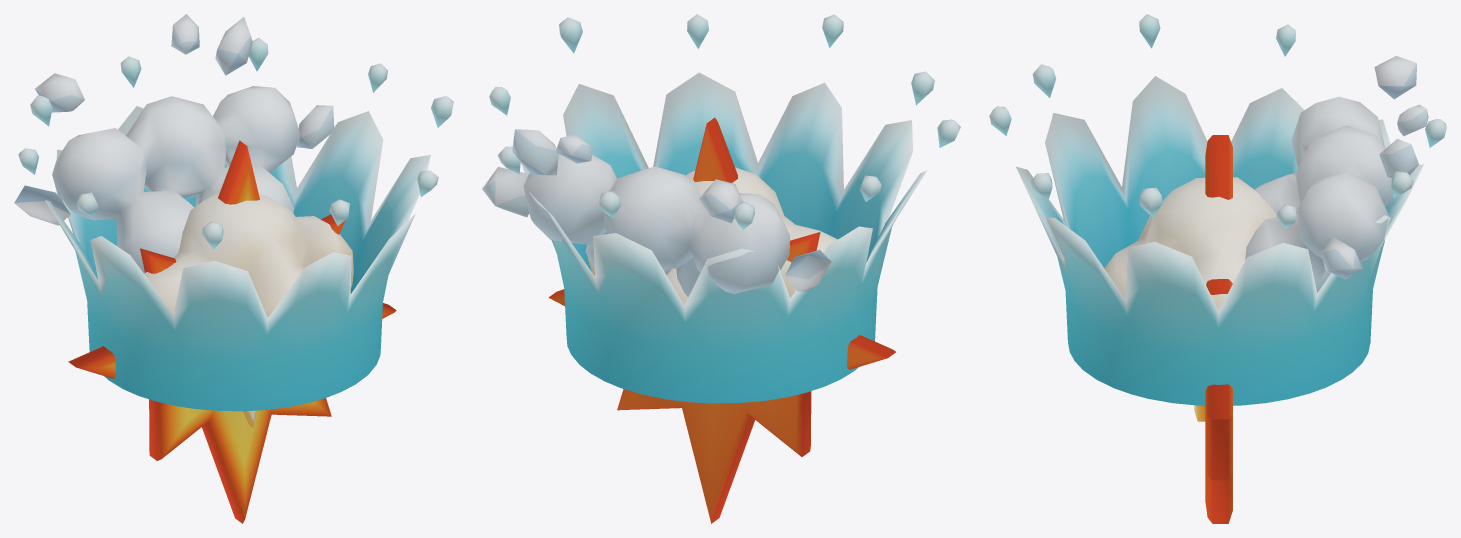
The model's file is fx-kit.glb.
3 renders of one model, left to right at view 1: azimuth 30°, elevation 25°; view 2: azimuth 150°, elevation 25°; view 3: azimuth 270°, elevation 25°, orthographic. The views are drawn at different scales.
Parts seen in each view (by area): view 1: splashcrown fx, snowburst fx, dustpuff fx, impactstar fx; view 2: splashcrown fx, snowburst fx, impactstar fx, dustpuff fx; view 3: splashcrown fx, snowburst fx, dustpuff fx, impactstar fx.
Boxes of the visible parts, box(x1,y1,x2,y2) form: splashcrown fx: box(18, 37, 453, 411); snowburst fx: box(14, 14, 334, 273); dustpuff fx: box(144, 192, 353, 317); impactstar fx: box(68, 140, 396, 523); splashcrown fx: box(489, 14, 960, 403); snowburst fx: box(482, 129, 831, 297); impactstar fx: box(548, 117, 895, 523); dustpuff fx: box(588, 167, 837, 305); splashcrown fx: box(989, 14, 1446, 405); snowburst fx: box(1245, 56, 1428, 292); dustpuff fx: box(1104, 177, 1276, 310); impactstar fx: box(1194, 135, 1232, 523).
Bounding box in the file's own units: 1.64 × 1.76 × 1.66.
